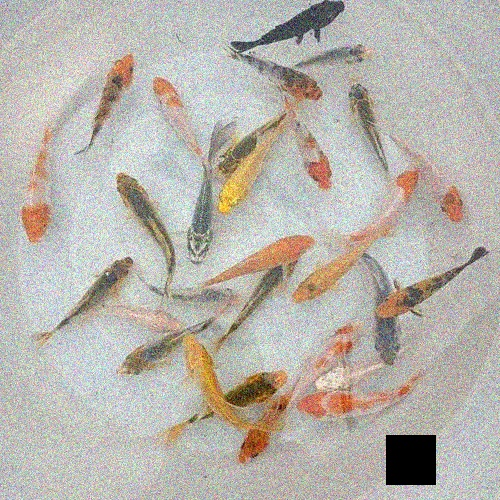fry: (14, 124, 79, 257), (111, 167, 180, 278), (73, 48, 137, 167), (39, 259, 131, 328), (289, 236, 372, 312), (214, 220, 316, 281), (355, 258, 407, 369), (182, 331, 237, 429), (301, 387, 423, 431), (299, 385, 421, 429), (297, 383, 419, 427), (151, 72, 206, 163), (343, 75, 392, 175), (361, 160, 421, 236), (176, 169, 219, 275), (237, 250, 296, 327), (111, 328, 192, 384), (243, 2, 343, 45), (295, 310, 361, 375), (377, 268, 455, 322), (417, 153, 470, 232), (216, 360, 294, 413), (237, 392, 287, 472), (215, 154, 276, 219), (251, 51, 328, 101), (314, 351, 395, 393), (290, 127, 337, 199), (170, 278, 252, 316), (211, 122, 263, 180), (112, 300, 191, 337), (301, 36, 379, 72), (322, 357, 392, 393)
